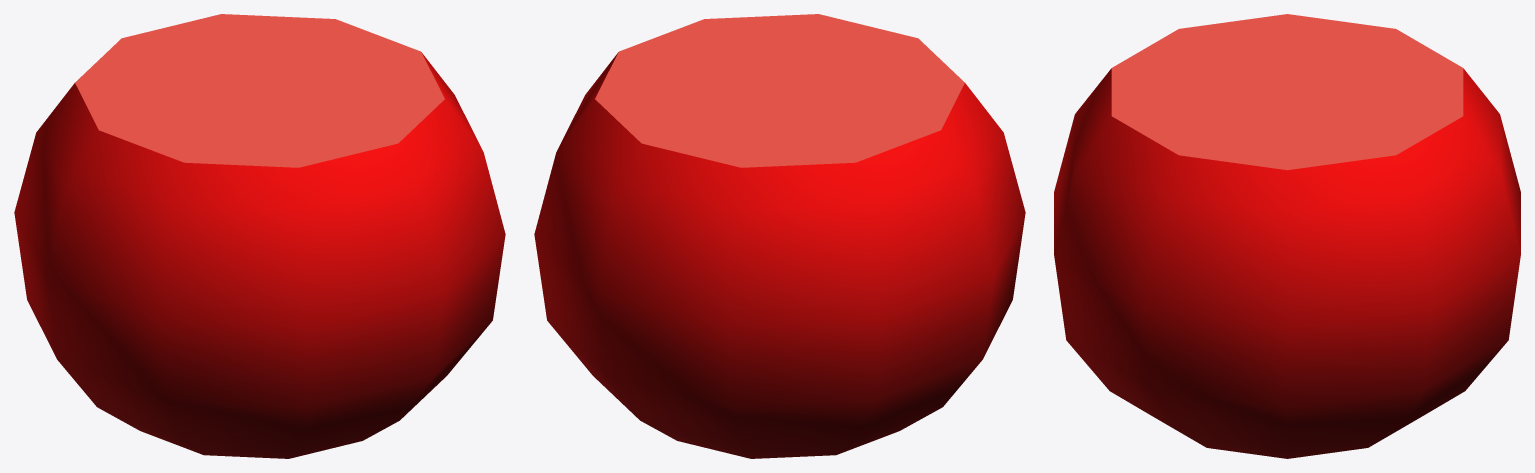
Rendered from Potion_B_M_Liquid.fbx.
The picture shows the model from 3 angles, left to right: view 1: azimuth 30°, elevation 25°; view 2: azimuth 150°, elevation 25°; view 3: azimuth 270°, elevation 25°; orthographic projection.
Parts seen in each view (by area): view 1: Potion_B_M_Liquid; view 2: Potion_B_M_Liquid; view 3: Potion_B_M_Liquid.
Boxes of the visible parts, x1=… form: Potion_B_M_Liquid: x1=14, y1=14, x2=505, y2=458; Potion_B_M_Liquid: x1=534, y1=14, x2=1025, y2=458; Potion_B_M_Liquid: x1=1054, y1=14, x2=1520, y2=458.
Size of the model in its own units: 51.72 by 35.91 by 49.19.
Materials: 1 (1 with a texture image).
